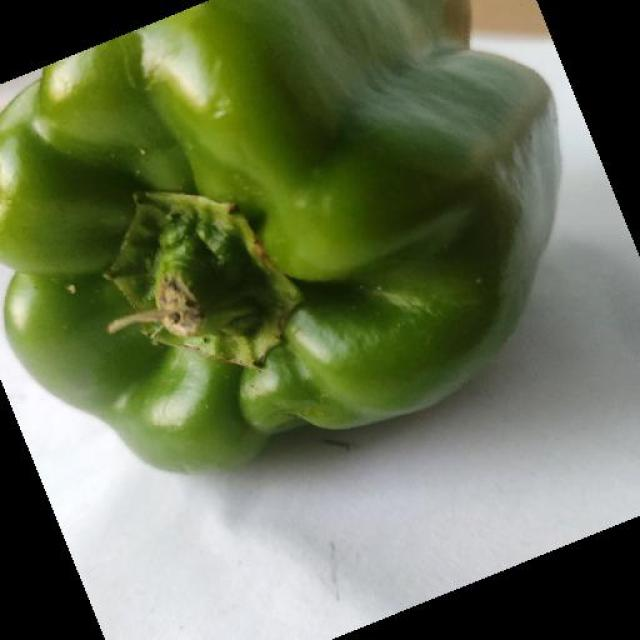Fresh_Capsicum: (8, 76, 519, 394)
